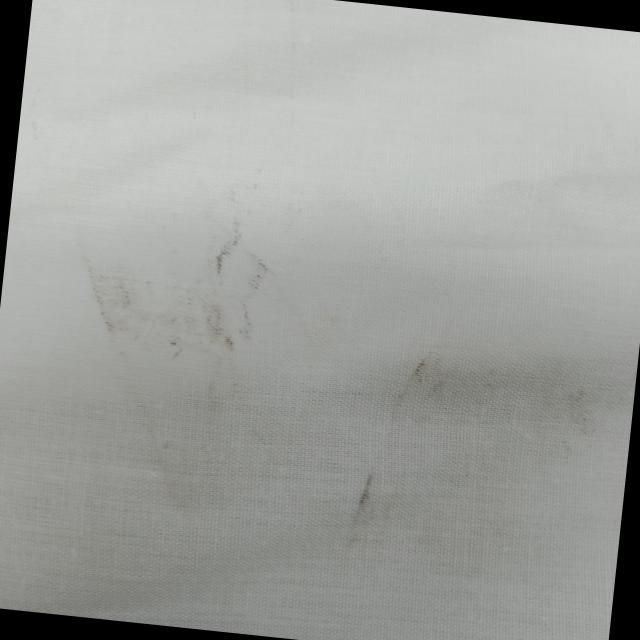stain: (345, 346, 584, 571), (74, 202, 286, 410)
